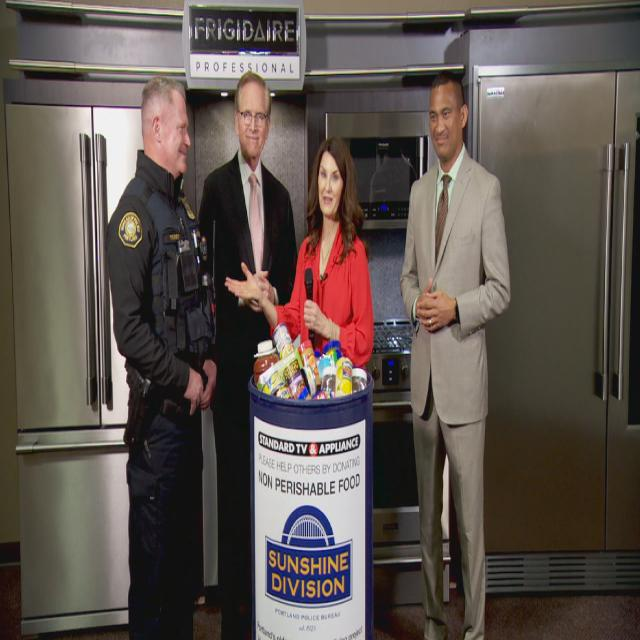police: (105, 60, 219, 640)
